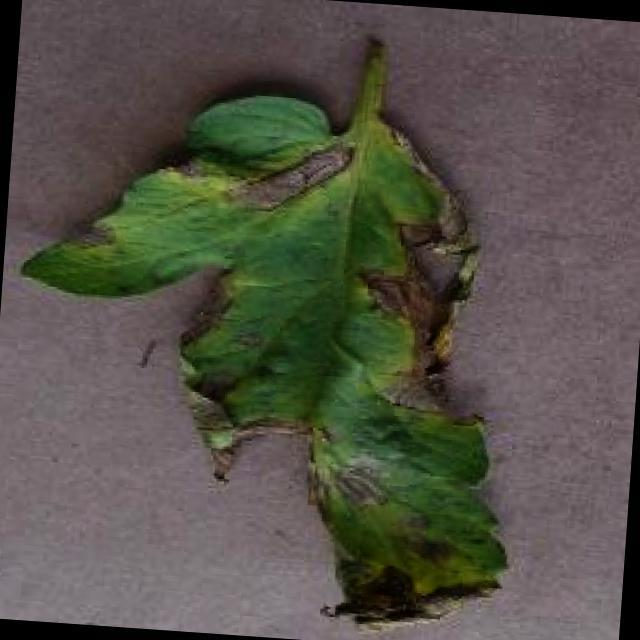Tomato Early blight leaf: (0, 67, 538, 640)
